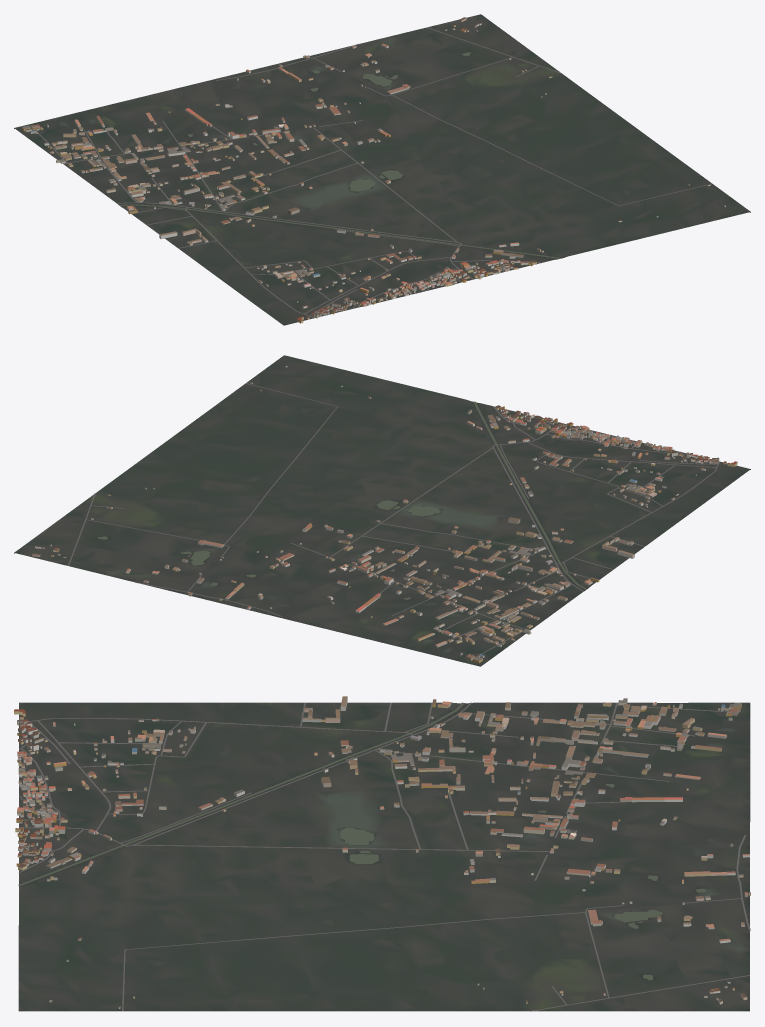
3 renders of one model, top to bottom at view 1: azimuth 30°, elevation 25°; view 2: azimuth 150°, elevation 25°; view 3: azimuth 270°, elevation 25°, orthographic. The views are drawn at different scales.
Parts seen in each view (by area): view 1: ground, buildings, roads, water; view 2: ground, buildings, roads, water; view 3: ground, buildings, roads, water.
Part boxes in pixels (x1=…): ground: x1=14, y1=14, x2=750, y2=325; buildings: x1=22, y1=17, x2=725, y2=323; roads: x1=35, y1=27, x2=712, y2=318; water: x1=119, y1=52, x2=560, y2=258; ground: x1=14, y1=355, x2=750, y2=666; buildings: x1=32, y1=365, x2=737, y2=663; roads: x1=68, y1=383, x2=719, y2=656; water: x1=97, y1=401, x2=587, y2=599; ground: x1=18, y1=702, x2=750, y2=1011; buildings: x1=14, y1=696, x2=750, y2=1008; roads: x1=18, y1=702, x2=750, y2=1011; water: x1=18, y1=702, x2=705, y2=980.
Bounding box in the file's own units: 1412 × 15.2 × 1413.
